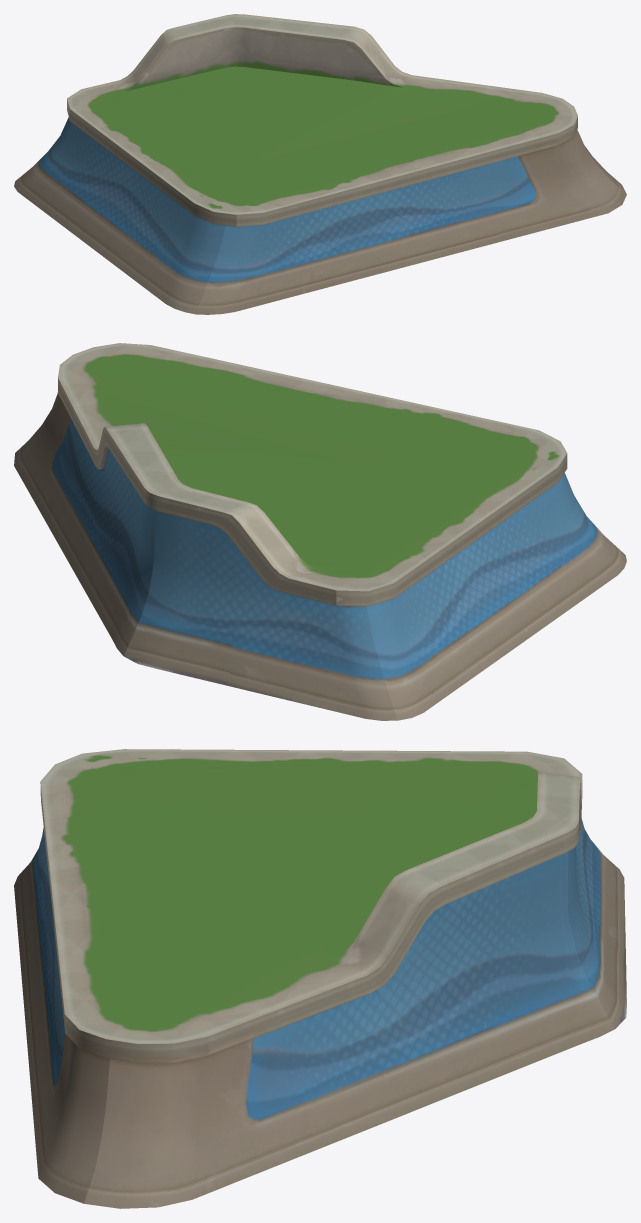
Rendered from pref_sm_beach_techobstacle07d_a_mirror_lv3.fbx.
3 renders of one model, top to bottom at view 1: azimuth 30°, elevation 25°; view 2: azimuth 150°, elevation 25°; view 3: azimuth 270°, elevation 25°, orthographic. The views are drawn at different scales.
Parts seen in each view (by area): view 1: sm_beach_techobstacle07d_a_mirror_lv3; view 2: sm_beach_techobstacle07d_a_mirror_lv3; view 3: sm_beach_techobstacle07d_a_mirror_lv3.
Boxes of the visible parts, bbox=[...] form: sm_beach_techobstacle07d_a_mirror_lv3: bbox=[14, 14, 626, 314]; sm_beach_techobstacle07d_a_mirror_lv3: bbox=[14, 343, 626, 720]; sm_beach_techobstacle07d_a_mirror_lv3: bbox=[14, 749, 626, 1208].
Size of the model in its own units: 8.35 by 2.13 by 6.06.
